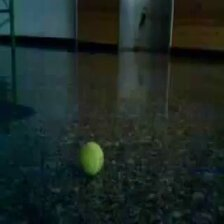tennis: (79, 141, 105, 176)
